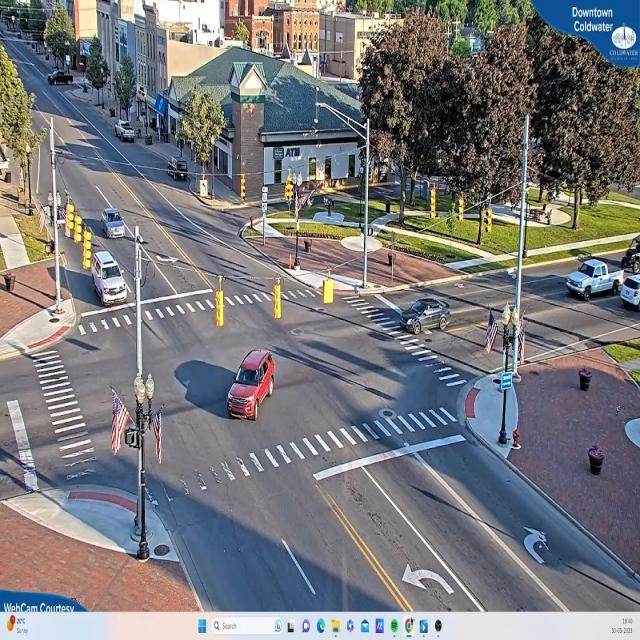car: (227, 350, 274, 420), (566, 257, 619, 301), (398, 295, 451, 338), (90, 249, 128, 306), (102, 206, 126, 239), (620, 278, 639, 310), (115, 124, 136, 143)
